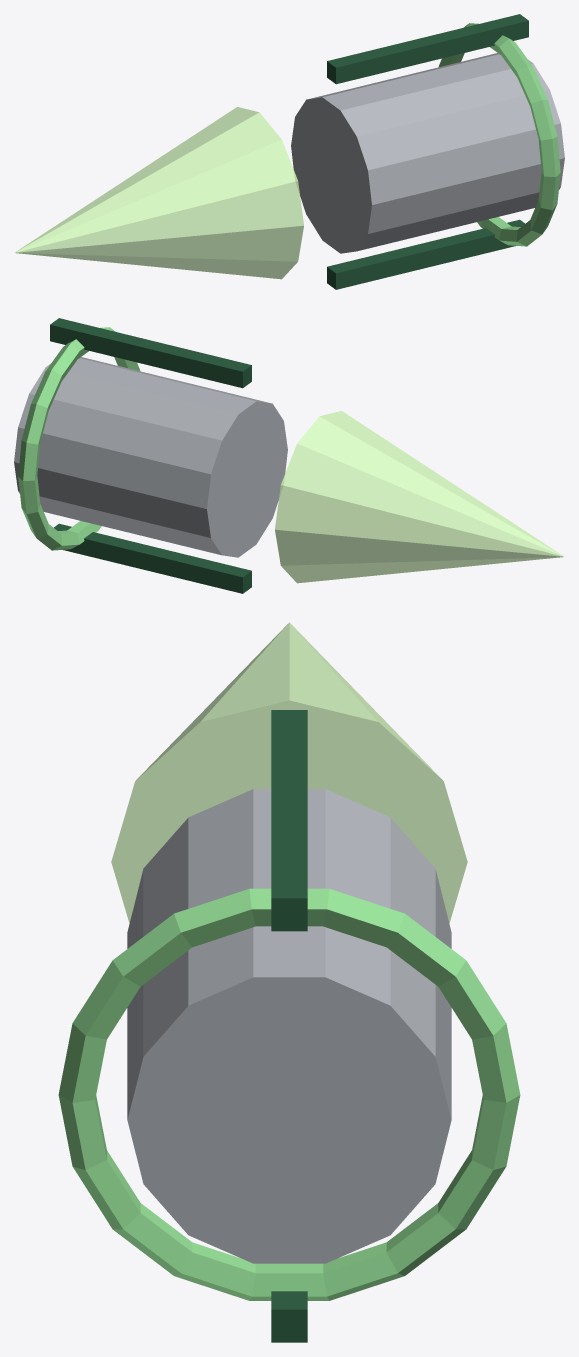
Rendered from 06_skyship_engine.glb.
The picture shows the model from 3 angles, top to bottom: view 1: azimuth 30°, elevation 25°; view 2: azimuth 150°, elevation 25°; view 3: azimuth 270°, elevation 25°; orthographic projection. The views are drawn at different scales.
Visible parts, largest first — view 1: engine_core, thruster_plume, engine_ring, mount_strut_r, mount_strut_l; view 2: engine_core, thruster_plume, engine_ring, mount_strut_r, mount_strut_l; view 3: engine_core, engine_ring, thruster_plume, mount_strut_r, mount_strut_l.
Boxes of the visible parts, x1,y1,x2,y2 form: engine_core: (291,53,564,253); thruster_plume: (14,107,303,279); engine_ring: (438,23,560,246); mount_strut_r: (327,14,528,84); mount_strut_l: (327,219,524,289); engine_core: (14,357,287,557); thruster_plume: (275,411,564,583); engine_ring: (18,327,140,550); mount_strut_r: (50,318,251,388); mount_strut_l: (54,523,251,593); engine_core: (127,789,451,1263); engine_ring: (58,888,520,1300); thruster_plume: (111,622,467,923); mount_strut_r: (271,710,307,931); mount_strut_l: (271,1291,307,1342).
Bounding box in the file's own units: 1.45 × 0.605 × 0.57.
